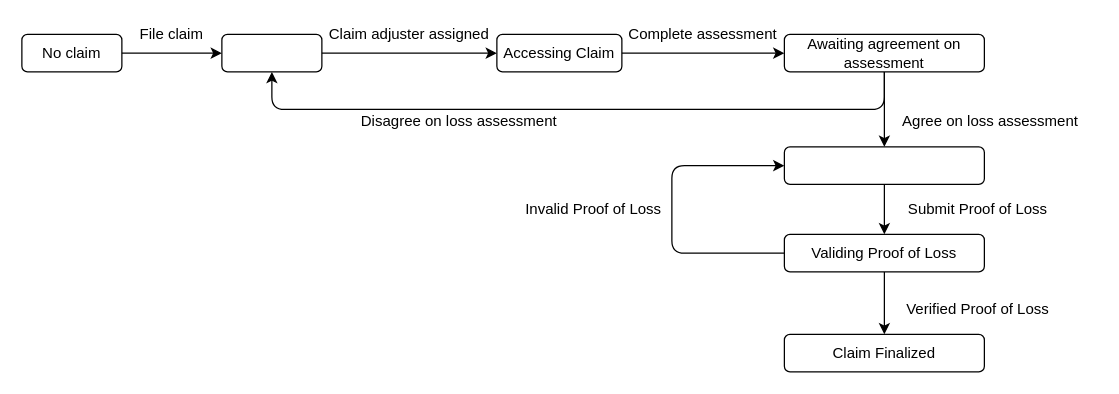
The diagram is 1119 pixels wide and 394 high, and some of its shapes have lost their labels. The shapes that lost their labels are listed below. From the top down, each one's centre as x and y in pixels, then its label:
At (x=271, y=52): "Claim Filed".
At (x=883, y=165): "Awaiting Proof of Loss".
